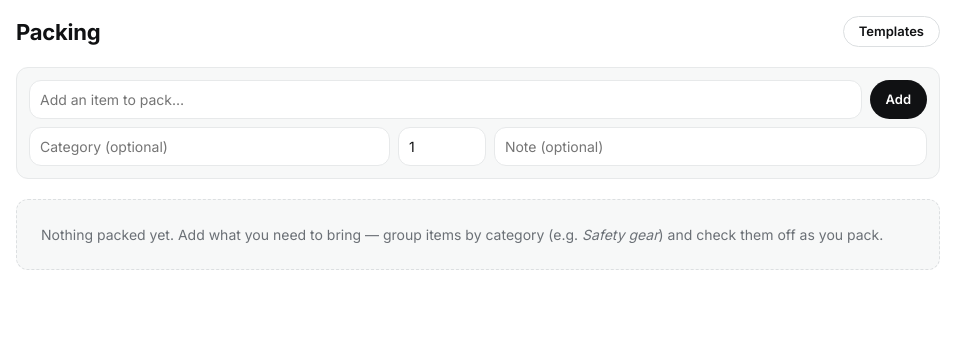
Scenario: TripPackingPage › adds a new item with category, quantity and note
Expected: the text "Nothing packed yet" is shown, x1=41 y1=226 x2=578 y2=243
In the field labelled "item": (445, 100) x1=29 y1=80 x2=862 y2=119, type "Dust mask"
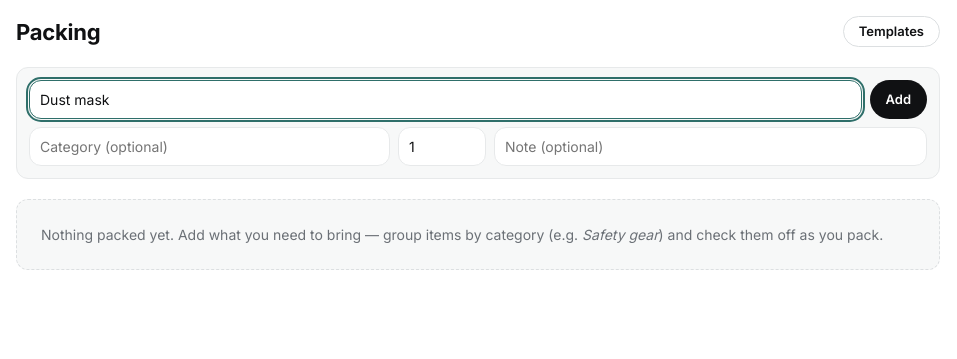
In the field labelled "Category": (209, 146) x1=29 y1=127 x2=390 y2=166, type "Safety gear"
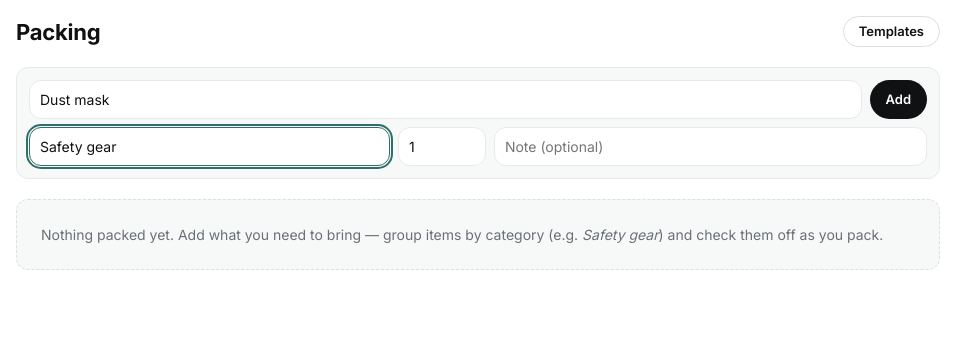
Replace the text in the number field named "Quantity" with "3": (442, 146) x1=398 y1=127 x2=486 y2=166
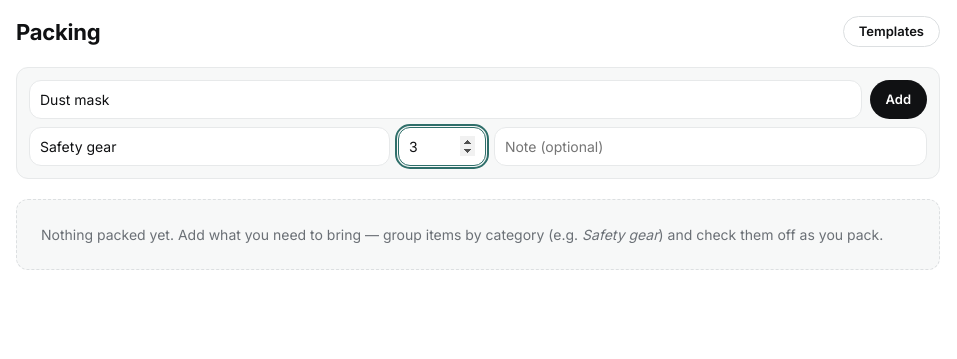
In the field labelled "Note": (710, 146) x1=494 y1=127 x2=927 y2=166, type "FFP2"
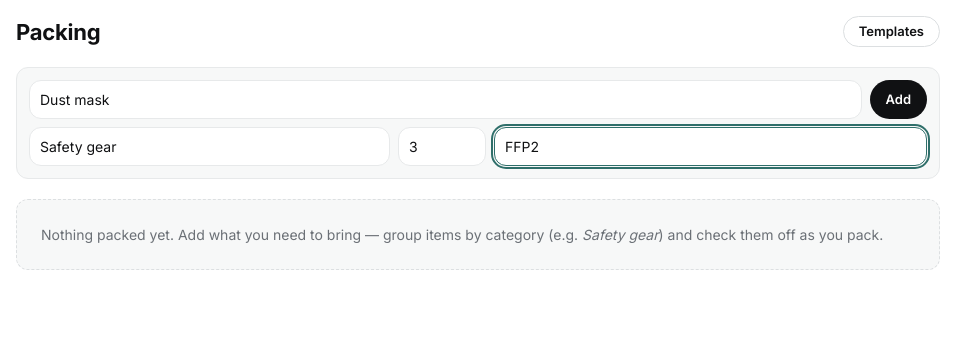
Click the button "Add": (898, 100) x1=870 y1=80 x2=927 y2=119
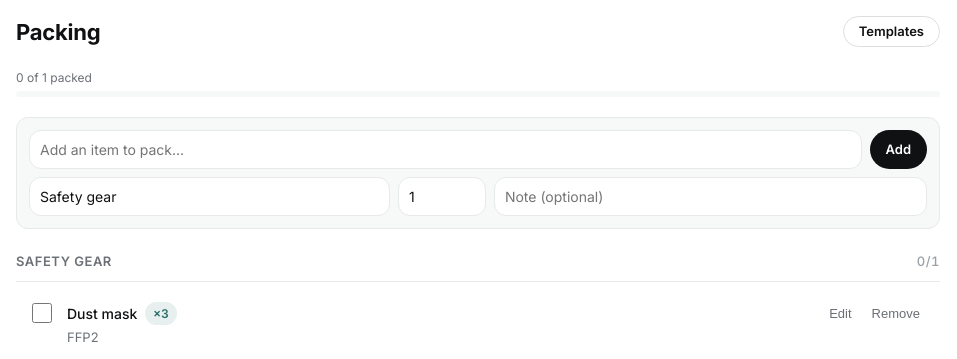
Result: the text "Dust mask" is shown at x1=67 y1=305 x2=137 y2=322
